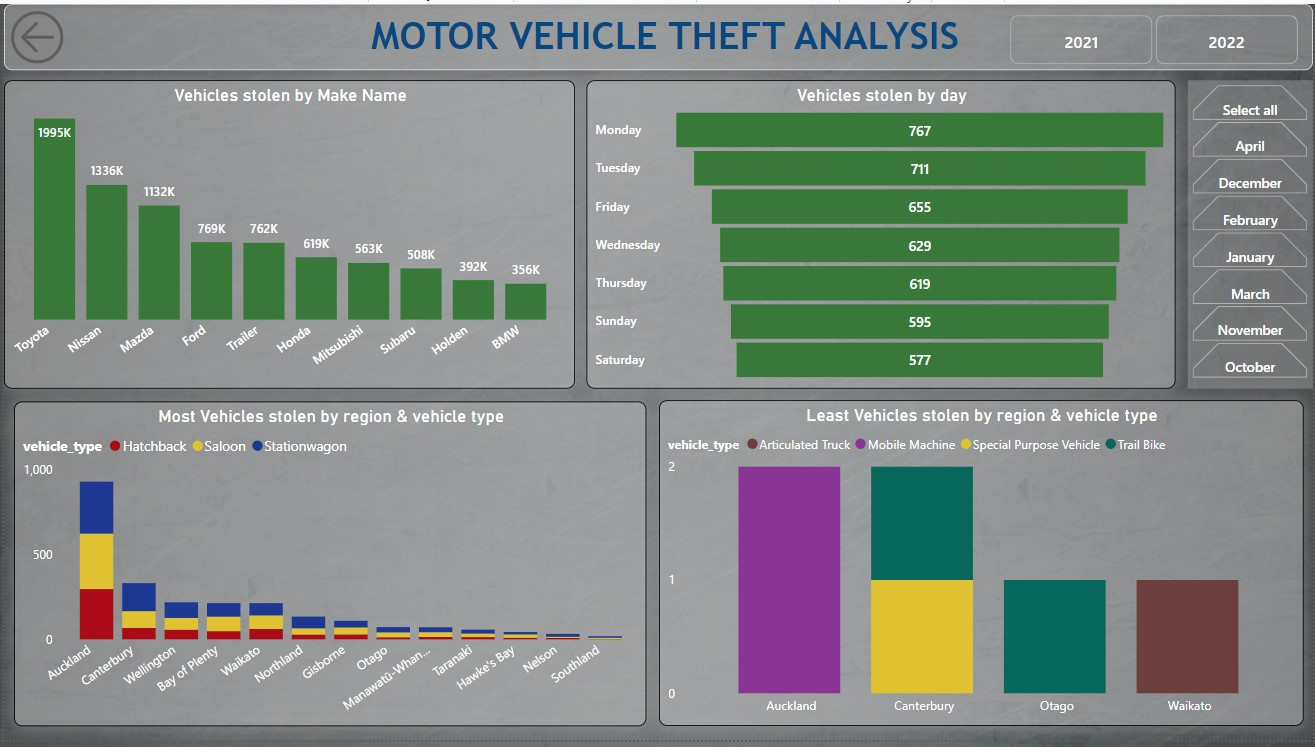

This screenshot's page, from the dashboard's own definition file:
{"tool":"powerbi","page":{"name":"MVT Analysis ","canvas":[1280,720],"ordinal":1},"visuals":[{"type":"textbox","box":[0,0,1280,65],"z":0},{"type":"columnChart","title":"Vehicles stolen by Make Name","fields":{"Category":["make_details.make_name"],"Y":["Sum(stolen_vehicles.vehicle_id)"]},"box":[0,75,558.8,301.2],"z":1000},{"type":"funnel","title":"Vehicles stolen by day","fields":{"Category":["stolen_vehicles.Day Name"],"Y":["Count(stolen_vehicles.vehicle_id)"]},"box":[570,75,576.2,301.2],"z":2000},{"type":"lineStackedColumnComboChart","title":"Most Vehicles stolen by region & vehicle type","fields":{"Category":["locations.region"],"Y":["CountNonNull(stolen_vehicles.make_id)"],"Series":["stolen_vehicles.vehicle_type"]},"box":[10,388.8,618.8,317.5],"z":3000},{"type":"lineStackedColumnComboChart","title":"Least Vehicles stolen by region & vehicle type","fields":{"Category":["locations.region"],"Y":["CountNonNull(stolen_vehicles.make_id)"],"Series":["stolen_vehicles.vehicle_type"]},"box":[640,387.5,630,318.8],"z":4000},{"type":"advancedSlicerVisual","fields":{"Values":["stolen_vehicles.Stolen Year"]},"box":[978.8,6.2,291.2,58.8],"z":5000},{"type":"advancedSlicerVisual","fields":{"Values":["stolen_vehicles.Month Name"]},"box":[1157.5,75,122.5,301.2],"z":6000},{"type":"actionButton","box":[0,0,100,65],"z":6001}]}

Visuals, with their boxes in screenshot pixels (x1, y1, x2, y2), scaled from the page's 1280x720 canvas onto the 1315x747 screenshot:
textbox: detection(0, 0, 1314, 67)
"Vehicles stolen by Make Name" columnChart: detection(0, 78, 574, 390)
"Vehicles stolen by day" funnel: detection(586, 78, 1178, 390)
"Most Vehicles stolen by region & vehicle type" lineStackedColumnComboChart: detection(10, 403, 646, 733)
"Least Vehicles stolen by region & vehicle type" lineStackedColumnComboChart: detection(658, 402, 1305, 733)
advancedSlicerVisual - stolen_vehicles.Stolen Year: detection(1006, 6, 1305, 67)
advancedSlicerVisual - stolen_vehicles.Month Name: detection(1189, 78, 1314, 390)
actionButton: detection(0, 0, 103, 67)
